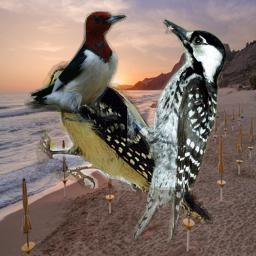Woodpecker: (31, 57, 213, 225), (127, 17, 226, 243), (24, 11, 128, 123)
